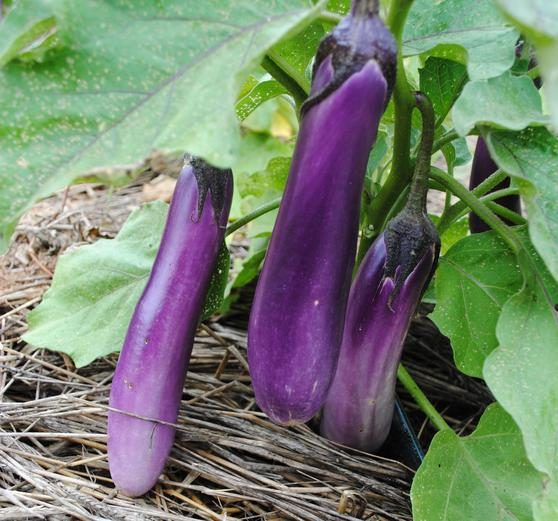eggplant: (250, 19, 400, 417), (108, 145, 235, 499), (320, 212, 446, 454)
